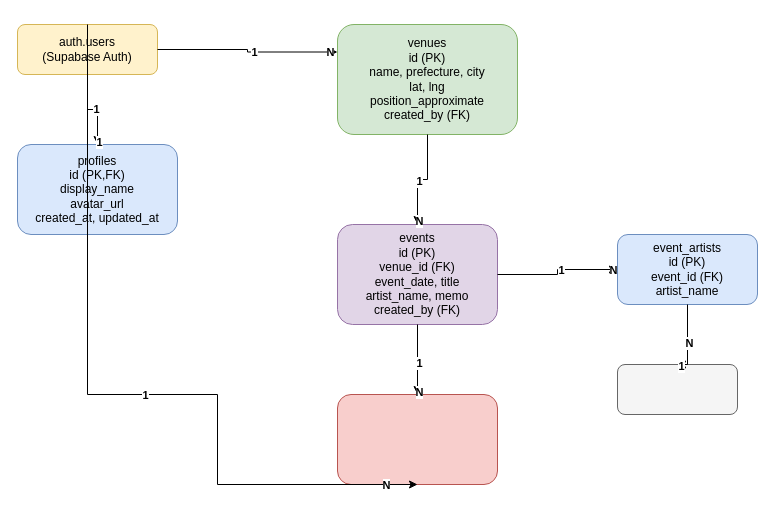
Some shapes in this 775 by 510 pixel diagram are drawn without their labels. The centre of each missing label's shape, as x and y in pixels:
"artists id (PK) name (UNIQUE)" belongs at point 677,389.
"attendances id (PK) user_id (FK) event_id (FK) created_at" belongs at point 417,439.
